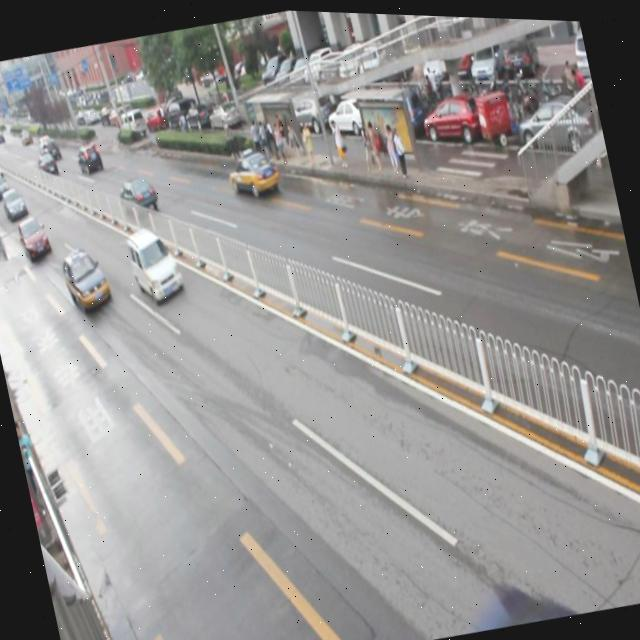car: (123, 220, 186, 307), (58, 240, 112, 313), (223, 141, 283, 200), (114, 170, 161, 217), (15, 211, 53, 260)
